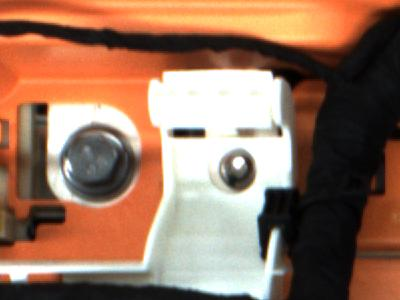nut_b: (54, 115, 153, 208)
